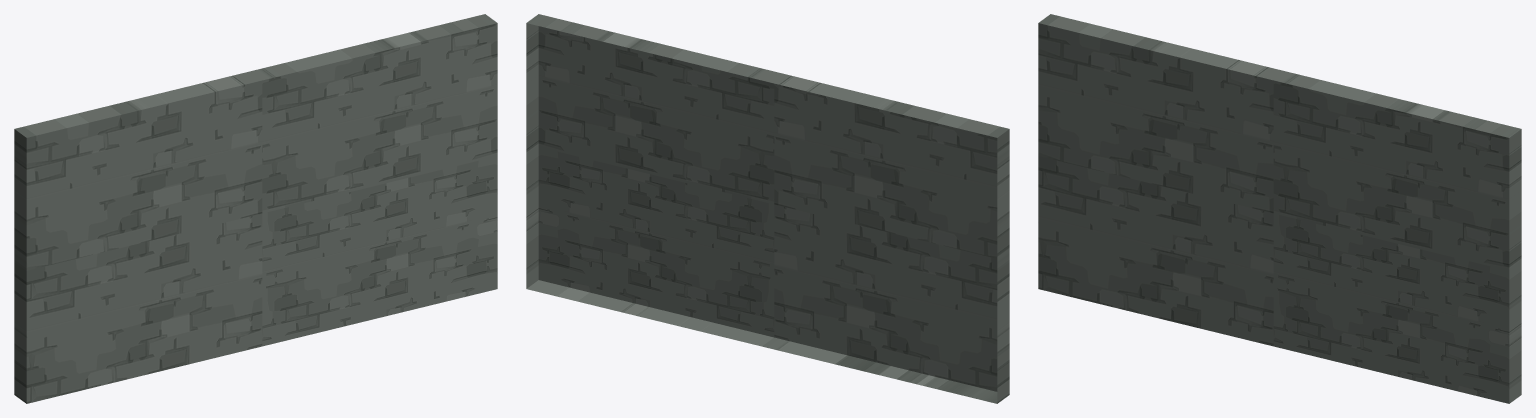
The model's file is SM_Env_Wall_06.fbx.
3 renders of one model, left to right at view 1: azimuth 30°, elevation 25°; view 2: azimuth 150°, elevation 25°; view 3: azimuth 330°, elevation 25°, orthographic.
Parts seen in each view (by area): view 1: SM_Env_Wall_06; view 2: SM_Env_Wall_06; view 3: SM_Env_Wall_06.
Part boxes in pixels (x1=…): SM_Env_Wall_06: x1=14, y1=14, x2=497, y2=403; SM_Env_Wall_06: x1=526, y1=14, x2=1009, y2=403; SM_Env_Wall_06: x1=1038, y1=14, x2=1521, y2=403.
Size of the model in its own units: 467 by 252 by 21.19.
Materials: 1 (1 with a texture image).
